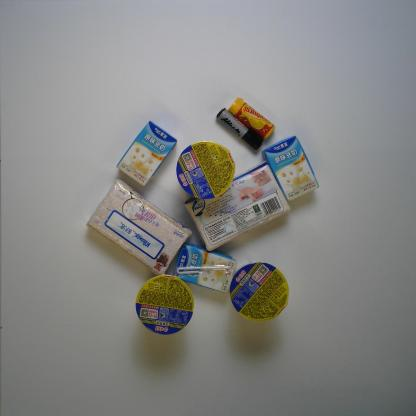Candy: (227, 92, 280, 142)
Instant Noodles: (132, 271, 198, 338), (225, 257, 293, 322), (171, 141, 240, 200)
Milk: (257, 132, 323, 202), (115, 117, 179, 188), (168, 243, 242, 294)
Stationery: (214, 106, 265, 153)
Tissue: (86, 176, 197, 282), (182, 160, 292, 256)
